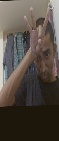hand: (22, 3, 52, 57)
